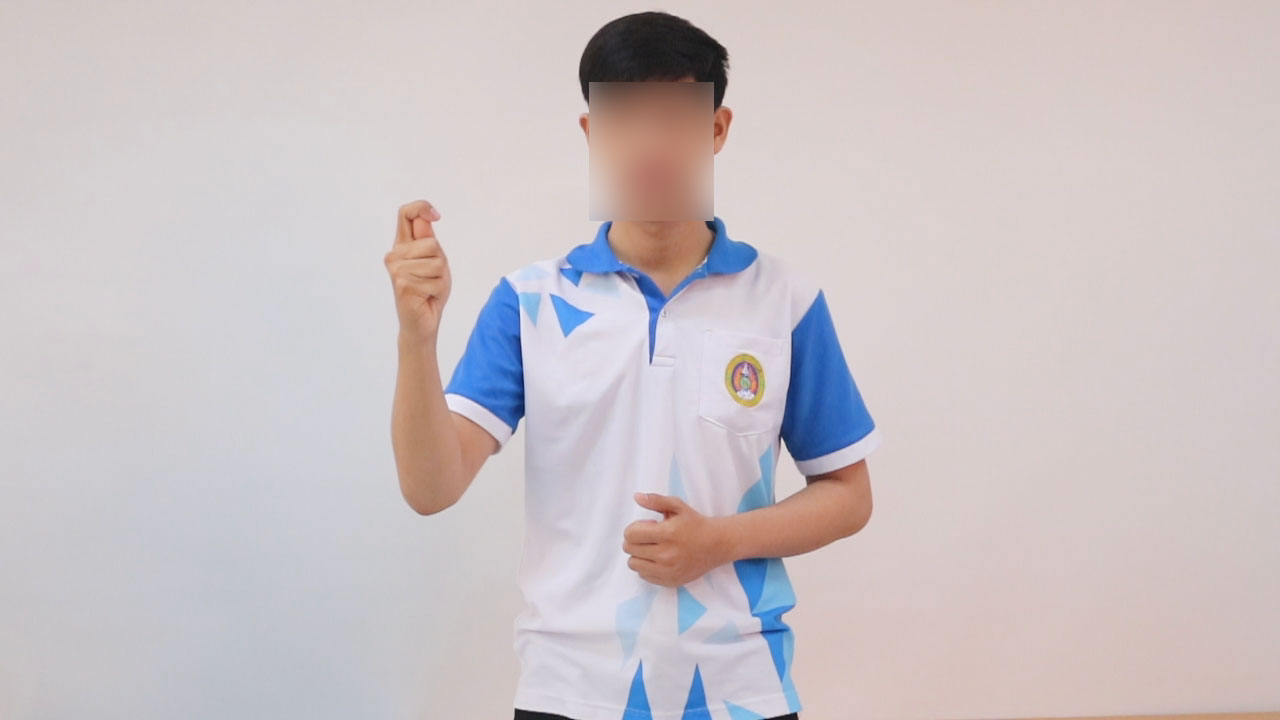or: (379, 191, 459, 353)
